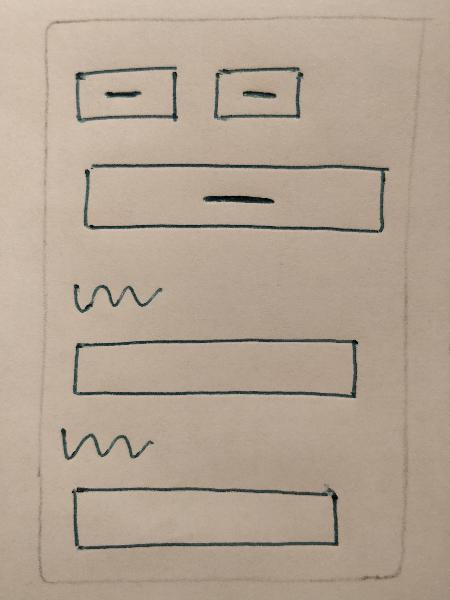button: (76, 154, 394, 251), (70, 59, 191, 137), (205, 61, 310, 135)
text: (58, 422, 159, 475), (67, 272, 170, 321)
text_input: (70, 332, 365, 407), (67, 483, 340, 559)
